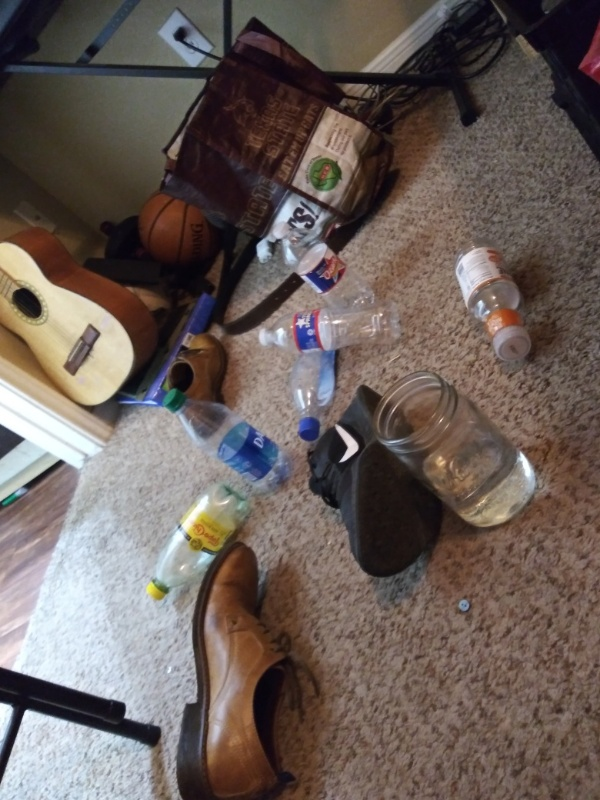bottle: (157, 383, 292, 495), (142, 478, 253, 606), (444, 234, 539, 372), (267, 217, 383, 316), (254, 302, 399, 354), (285, 337, 345, 444)
